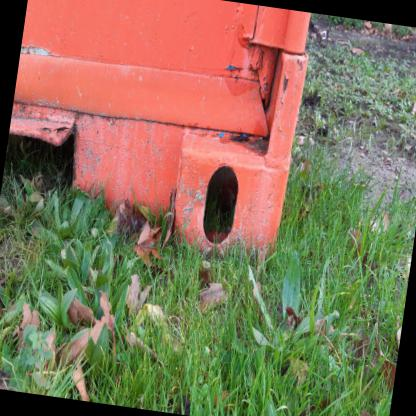CornerCasting: (152, 121, 296, 281)
